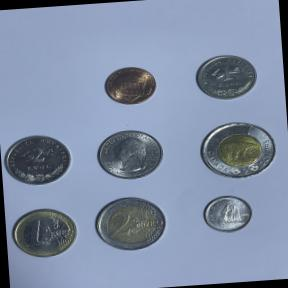1 Euro: (6, 202, 83, 262)
2 Euro: (88, 192, 172, 256)
Canda-10cent-: (198, 192, 257, 237)
Canda-2Dollar-: (191, 114, 283, 184)
Croatia-2Kune-: (0, 129, 76, 190)
US-1cent-: (100, 62, 160, 109)
US-25cent-: (90, 124, 167, 183)
